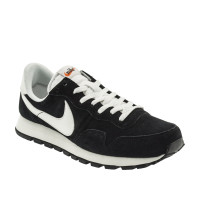nike: (26, 97, 76, 138)
